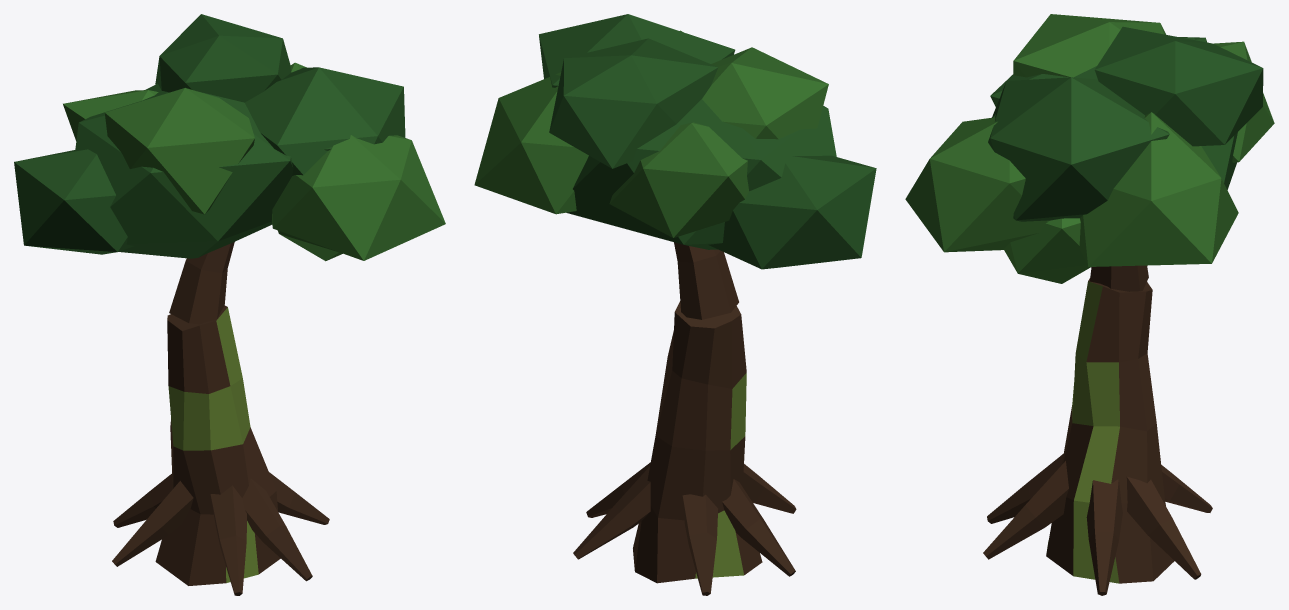
The model's file is Tree_Ancient_C.glb.
The picture shows the model from 3 angles, left to right: view 1: azimuth 30°, elevation 25°; view 2: azimuth 150°, elevation 25°; view 3: azimuth 270°, elevation 25°; orthographic projection. The views are drawn at different scales.
Visible parts, largest first — view 1: Tree_Ancient_C; view 2: Tree_Ancient_C; view 3: Tree_Ancient_C.
Part boxes in pixels (x1,y1,x2,y2): Tree_Ancient_C: [14, 14, 445, 595]; Tree_Ancient_C: [474, 14, 876, 595]; Tree_Ancient_C: [905, 14, 1274, 595].
Bounding box in the file's own units: 4.56 × 6.33 × 3.95.
